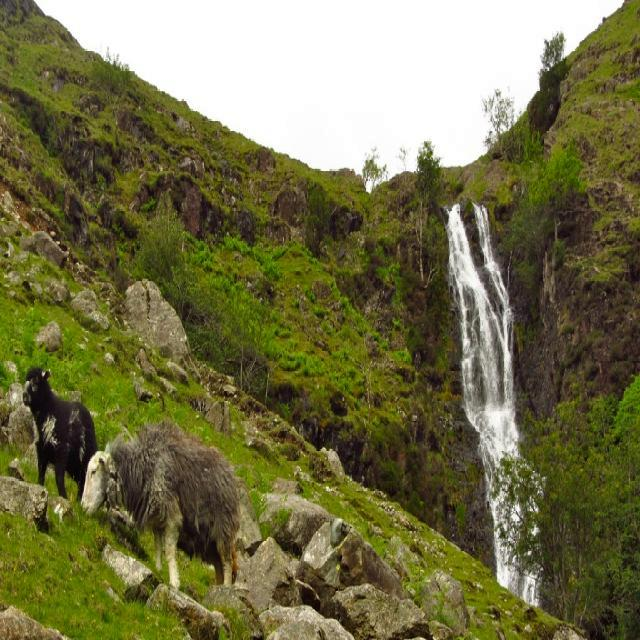sheep: (80, 418, 242, 584), (23, 368, 97, 501)
